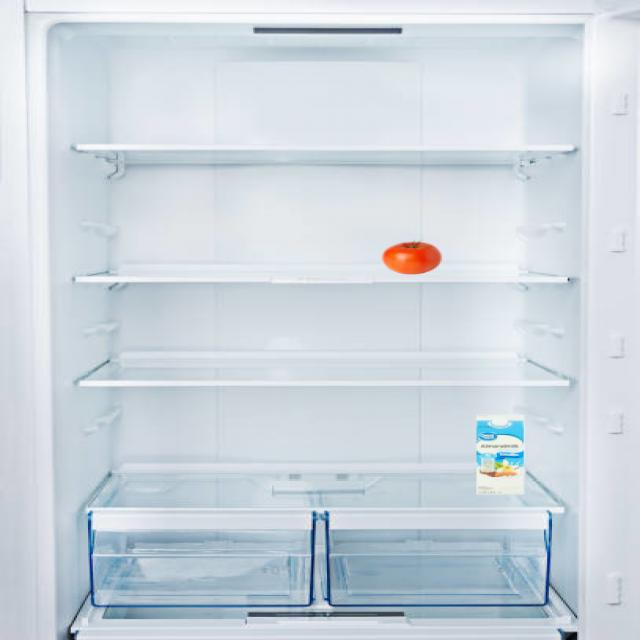milk: (473, 413, 526, 498)
tomato: (383, 242, 442, 277)
